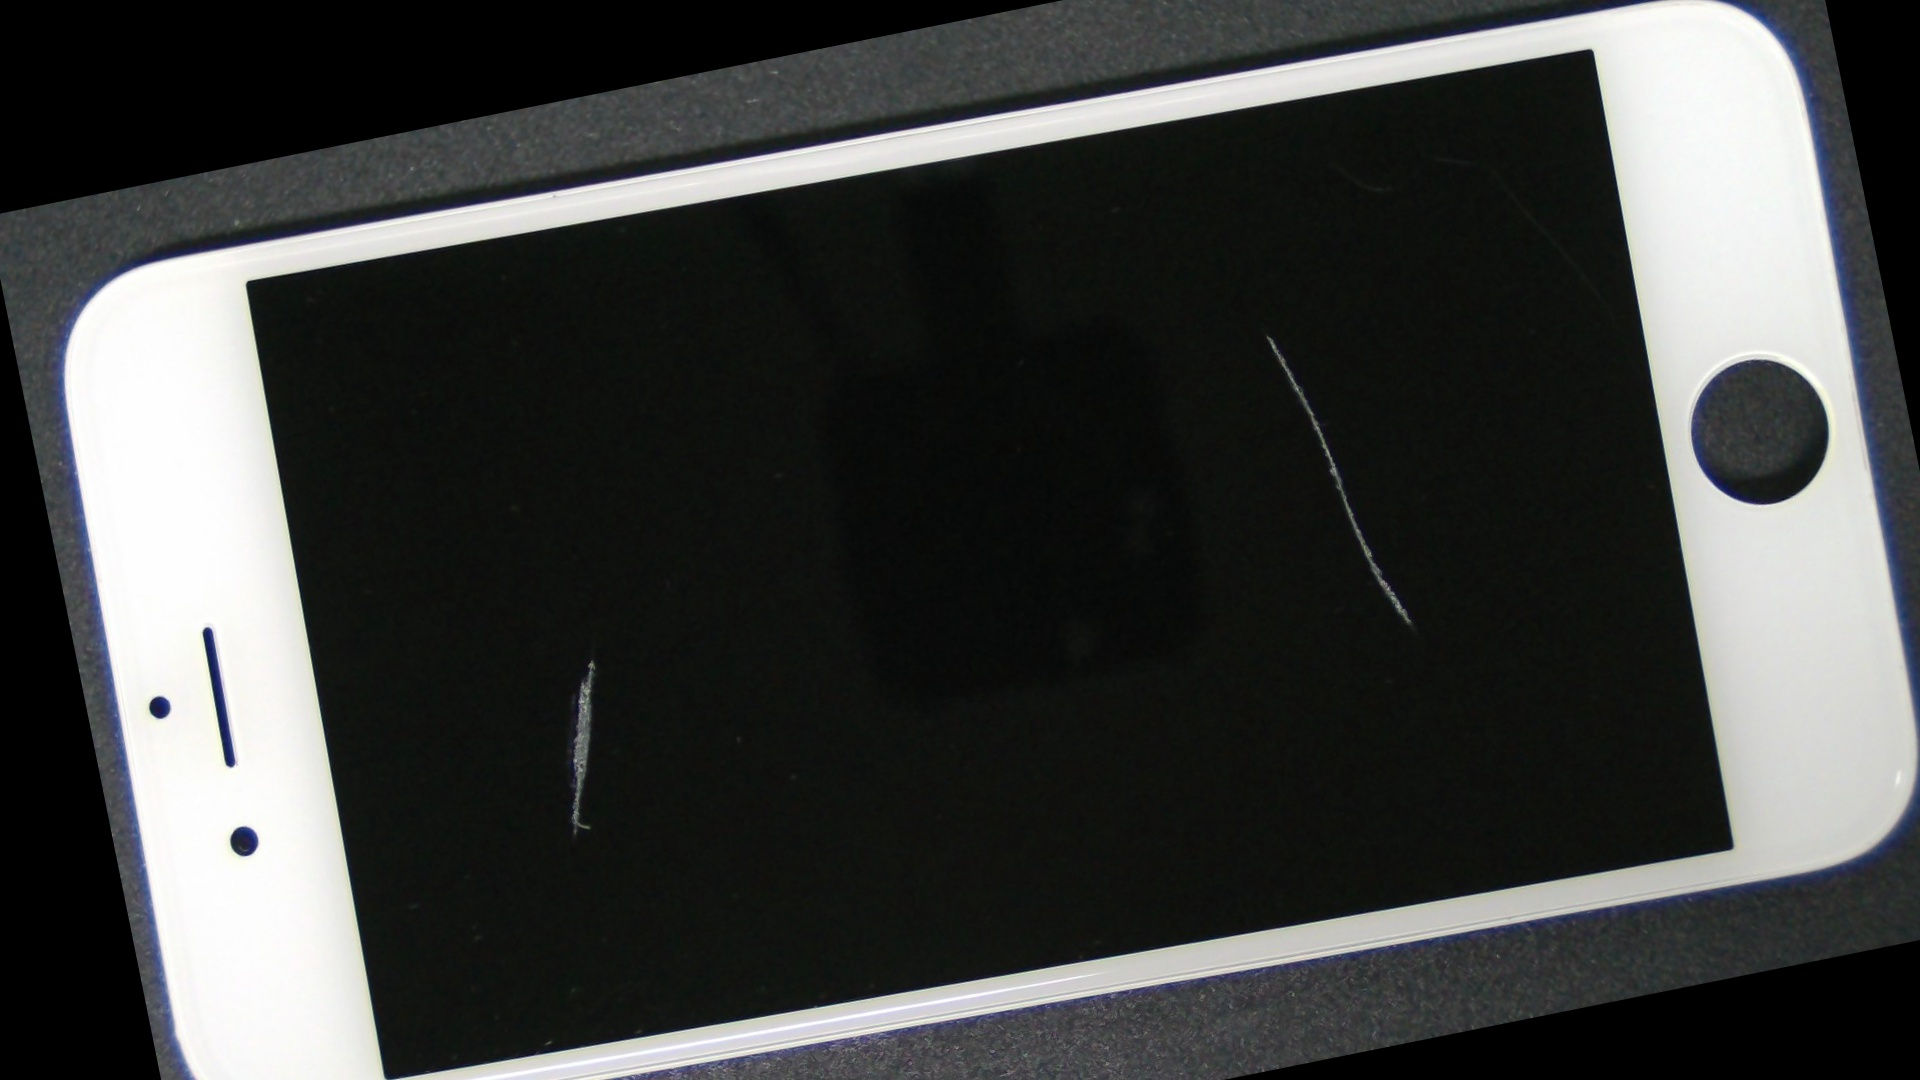oil: (626, 33, 1904, 636), (290, 338, 893, 981)
